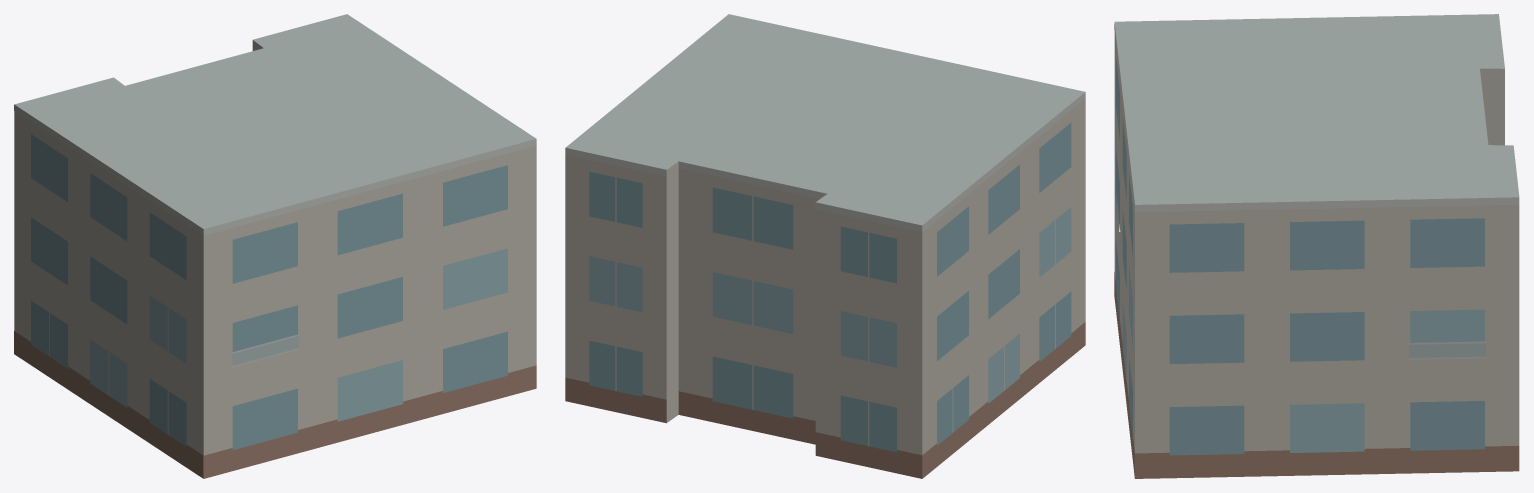
File: survey-upis-32718997.glb
3 views of the same model, side by side, from view 1: azimuth 30°, elevation 25°; view 2: azimuth 150°, elevation 25°; view 3: azimuth 270°, elevation 25° (orthographic). The views are drawn at different scales.
Visible parts, largest first — view 1: survey-upis-32718997.tmp; view 2: survey-upis-32718997.tmp; view 3: survey-upis-32718997.tmp.
Part boxes in pixels (x1,y1,x2,y2): survey-upis-32718997.tmp: (14, 14, 536, 478); survey-upis-32718997.tmp: (565, 14, 1085, 478); survey-upis-32718997.tmp: (1114, 14, 1519, 478).
Size of the model in its own units: 13.68 by 9.15 by 12.27.
